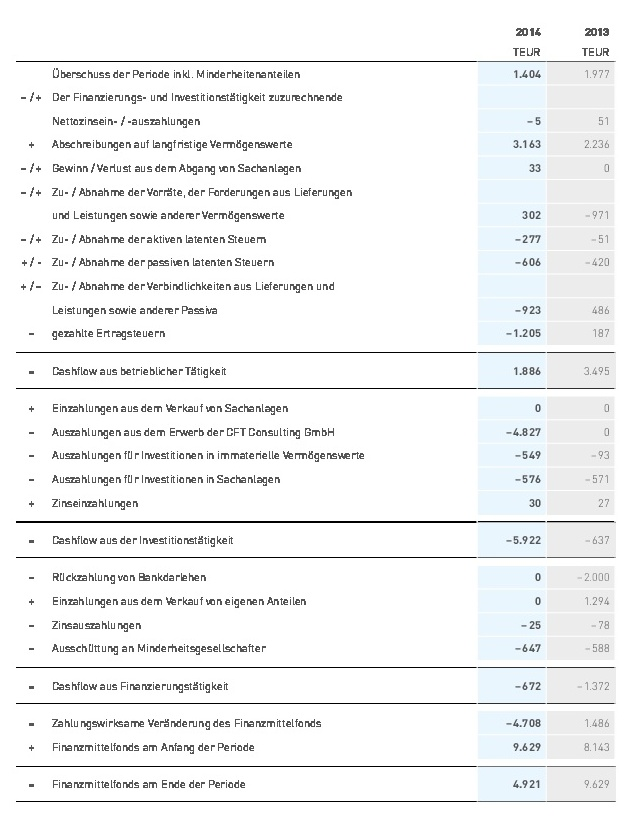table: (0, 0, 626, 822)
